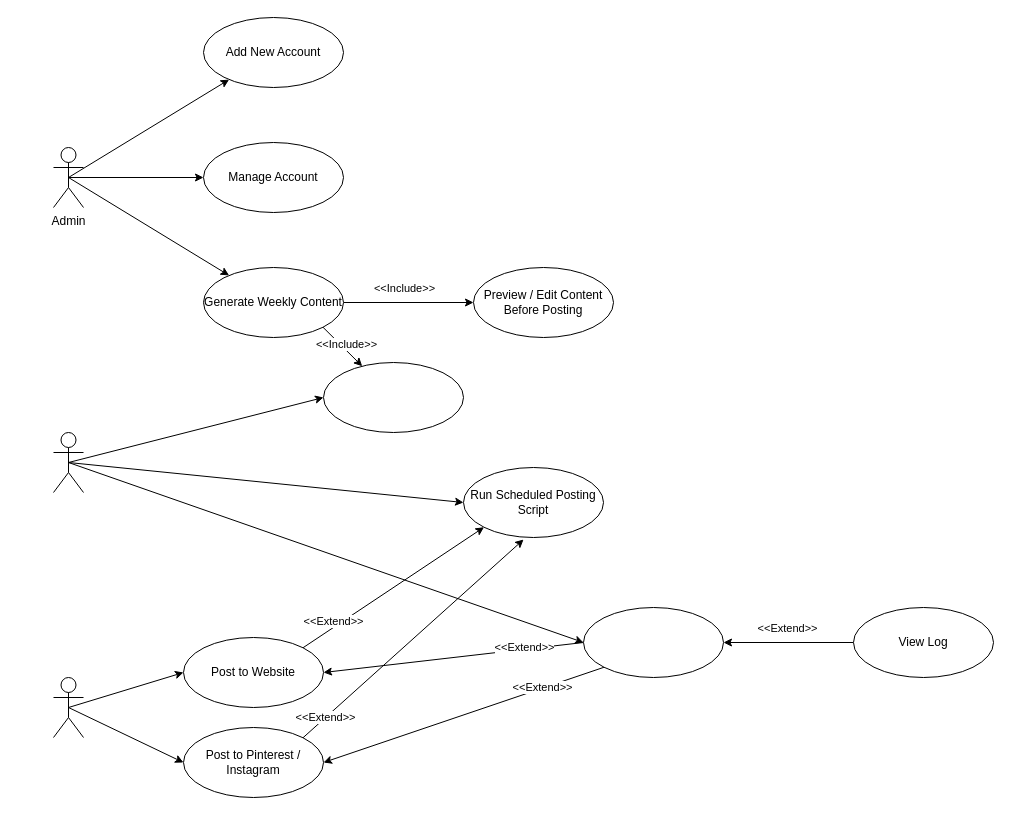
Image size: 1011x815. Some labels were removed from this diagram. Each missing label, with the centre of its shape:
CLI Runner: point 68,462
Generate Output: point 393,397
Log Results: point 653,642
Social Platform API: point 68,707
